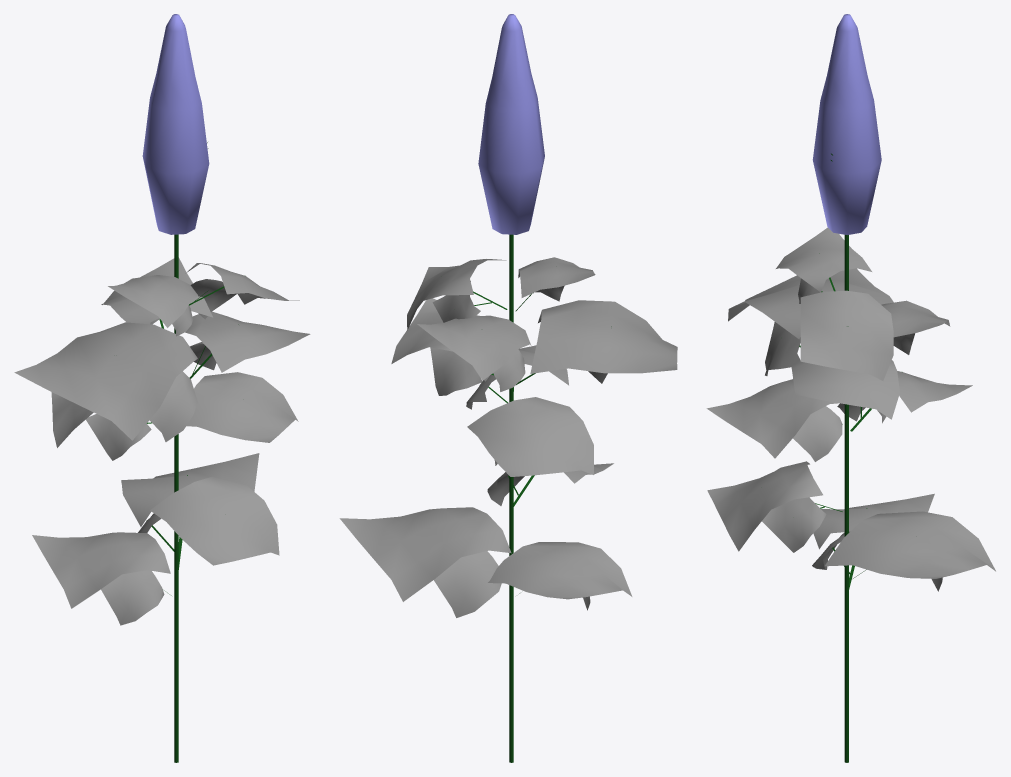
File: lupin substance.fbx
The picture shows the model from 3 angles, left to right: view 1: azimuth 30°, elevation 25°; view 2: azimuth 150°, elevation 25°; view 3: azimuth 270°, elevation 25°; orthographic projection.
Visible parts, largest first — view 1: Cylinder017 (×3); view 2: Cylinder017 (×3); view 3: Cylinder017 (×3).
Boxes of the visible parts, x1,y1,x2,y2 form: Cylinder017 (×3): (14, 14, 310, 762); Cylinder017 (×3): (339, 14, 677, 762); Cylinder017 (×3): (706, 14, 995, 762).
Bounding box in the file's own units: 2.73 × 6.69 × 2.36.
